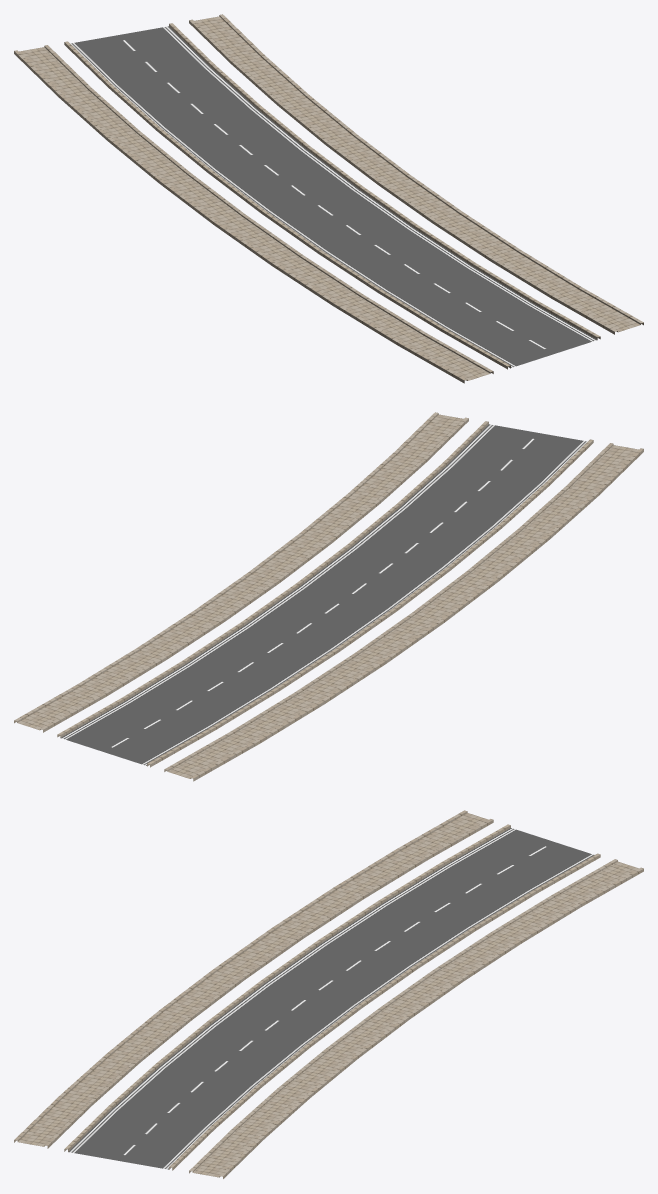
File: Street1LaneTurn15Deg.FBX
The picture shows the model from 3 angles, top to bottom: view 1: azimuth 30°, elevation 25°; view 2: azimuth 150°, elevation 25°; view 3: azimuth 330°, elevation 25°; orthographic projection.
Visible parts, largest first — view 1: Street1LaneTurn15Deg; view 2: Street1LaneTurn15Deg; view 3: Street1LaneTurn15Deg.
Part boxes in pixels (bbox=[...]): Street1LaneTurn15Deg: bbox=[14, 14, 643, 383]; Street1LaneTurn15Deg: bbox=[14, 412, 643, 781]; Street1LaneTurn15Deg: bbox=[14, 810, 643, 1178].
Size of the model in its own units: 23.23 by 0.3 by 82.47.
2 materials, 2 textured.
